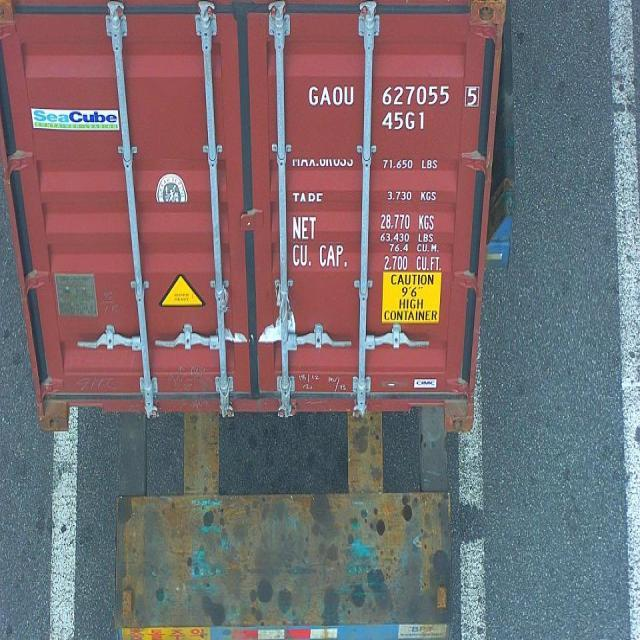ISO: (383, 112, 427, 131)
container_number: (308, 82, 480, 109)
